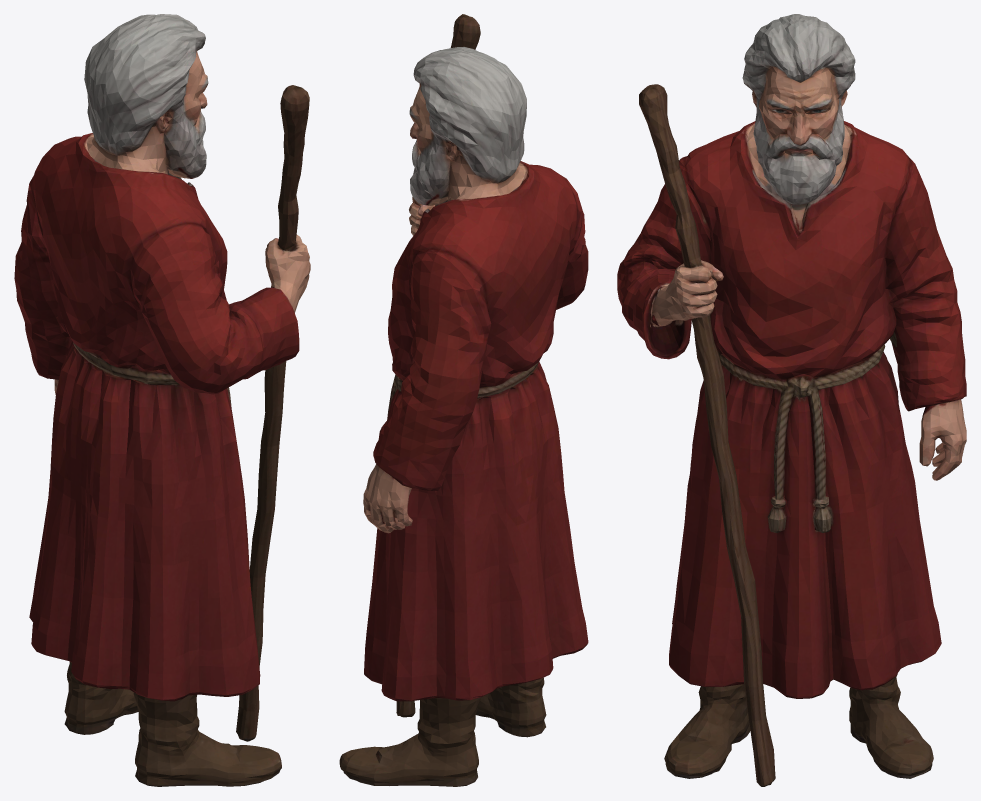
The model's file is Moises.glb.
The picture shows the model from 3 angles, left to right: view 1: azimuth 30°, elevation 25°; view 2: azimuth 150°, elevation 25°; view 3: azimuth 270°, elevation 25°; orthographic projection. The views are drawn at different scales.
Visible parts, largest first — view 1: tripo_node_8f75679a-1231-4c71-a36a-96564dc83c98; view 2: tripo_node_8f75679a-1231-4c71-a36a-96564dc83c98; view 3: tripo_node_8f75679a-1231-4c71-a36a-96564dc83c98.
Part boxes in pixels (<box>): tripo_node_8f75679a-1231-4c71-a36a-96564dc83c98: <box>14,14,310,786</box>; tripo_node_8f75679a-1231-4c71-a36a-96564dc83c98: <box>339,14,588,786</box>; tripo_node_8f75679a-1231-4c71-a36a-96564dc83c98: <box>617,14,966,786</box>.
Size of the model in its own units: 0.5339 by 1.8 by 0.7833.
1 material, 1 textured.
